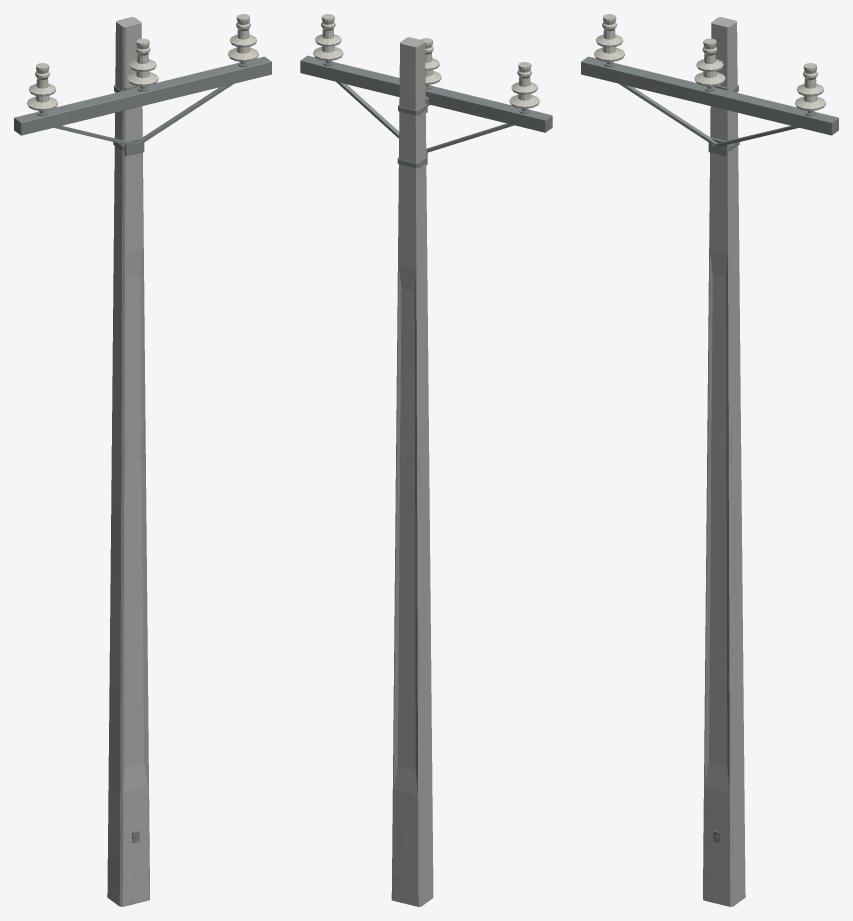
The model's file is concrete_utility_pole_insulators.glb.
The picture shows the model from 3 angles, left to right: view 1: azimuth 30°, elevation 25°; view 2: azimuth 150°, elevation 25°; view 3: azimuth 330°, elevation 25°; orthographic projection. The views are drawn at different scales.
Parts seen in each view (by area): view 1: ConcreteUtilityPoleInsulators; view 2: ConcreteUtilityPoleInsulators; view 3: ConcreteUtilityPoleInsulators.
Part boxes in pixels (<box>): ConcreteUtilityPoleInsulators: <box>14,14,271,906</box>; ConcreteUtilityPoleInsulators: <box>300,14,552,906</box>; ConcreteUtilityPoleInsulators: <box>581,14,838,906</box>.
Size of what is drawn, in the model's own units: 2.4 by 8 by 0.485.
1 material, 1 textured.
